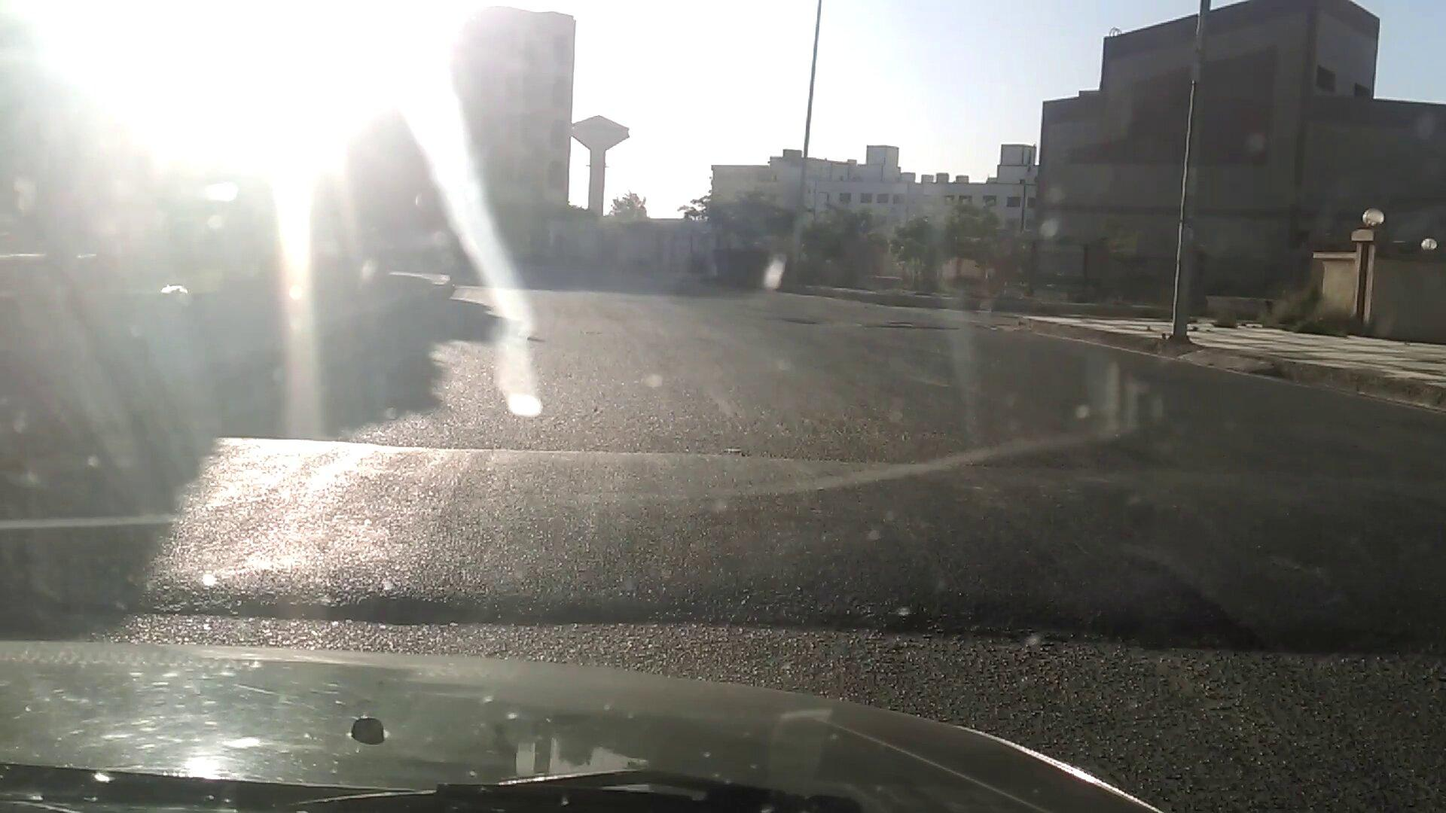Bump: (211, 427, 1440, 651)
